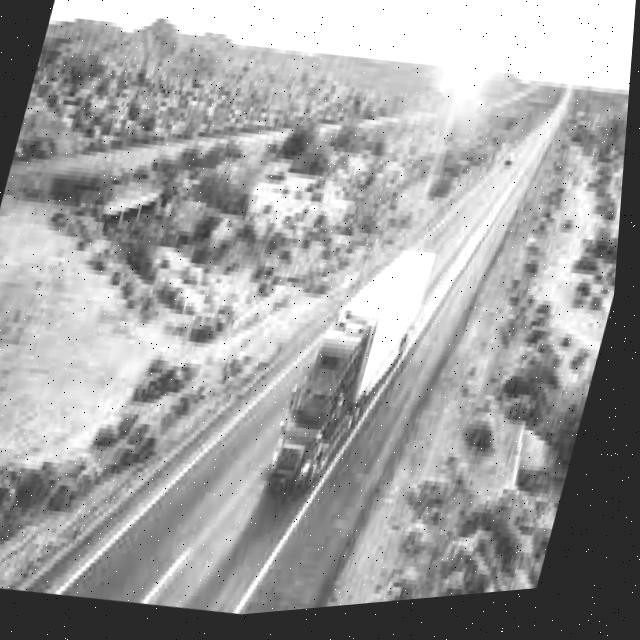truck: (270, 232, 445, 514)
